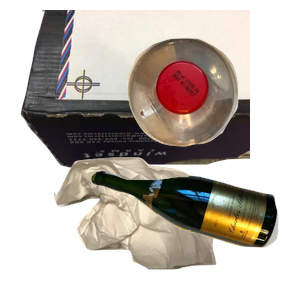cardboard: (18, 10, 258, 171)
glass: (88, 167, 300, 300)
plastic: (124, 36, 300, 175)
trash: (51, 155, 261, 300)
